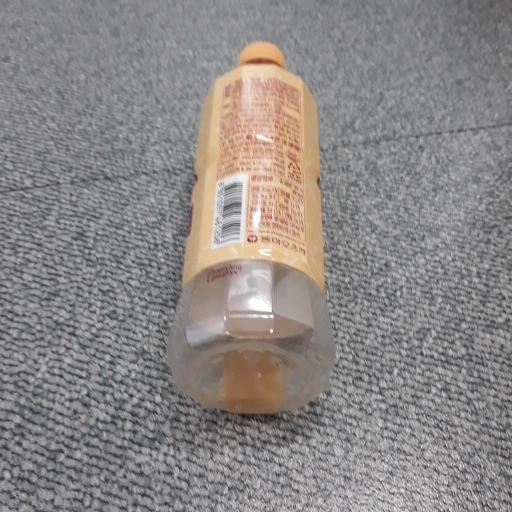Plastic_0: (172, 40, 339, 416)
